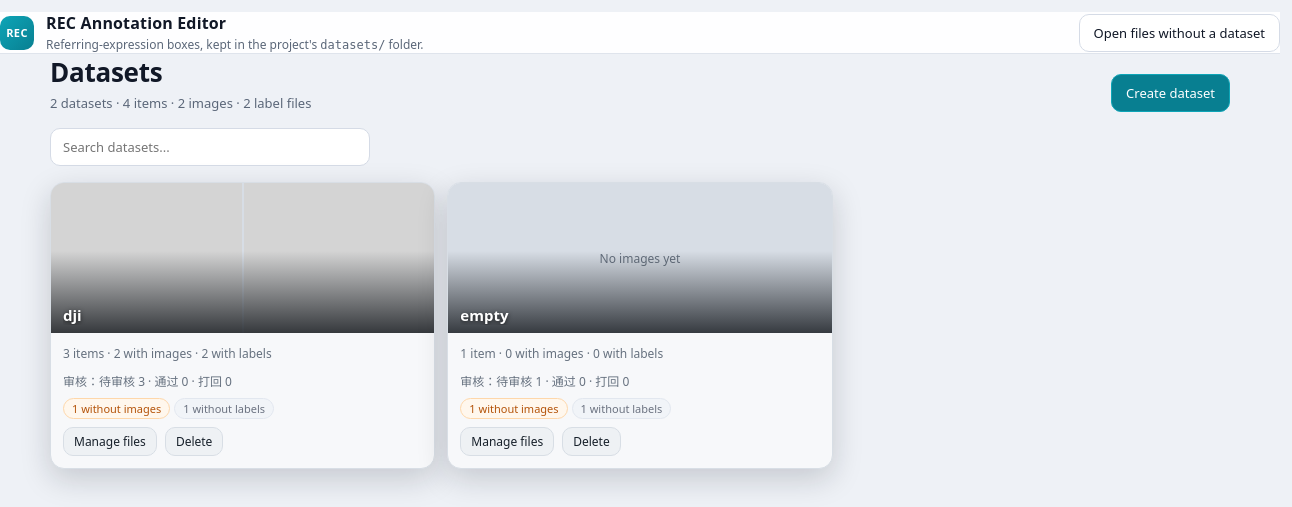
Test: filters datasets by name and sums up the import
Expected: the list item with test id "dataset-card-dji" is shown, [50,182,435,469]
Expected: the text "2 datasets · 4 items · 2 images · 2 label files" is shown, [50,94,311,112]
In the search field labelled "Search datasets": [210, 147] box [50,128,370,166], type "emp"
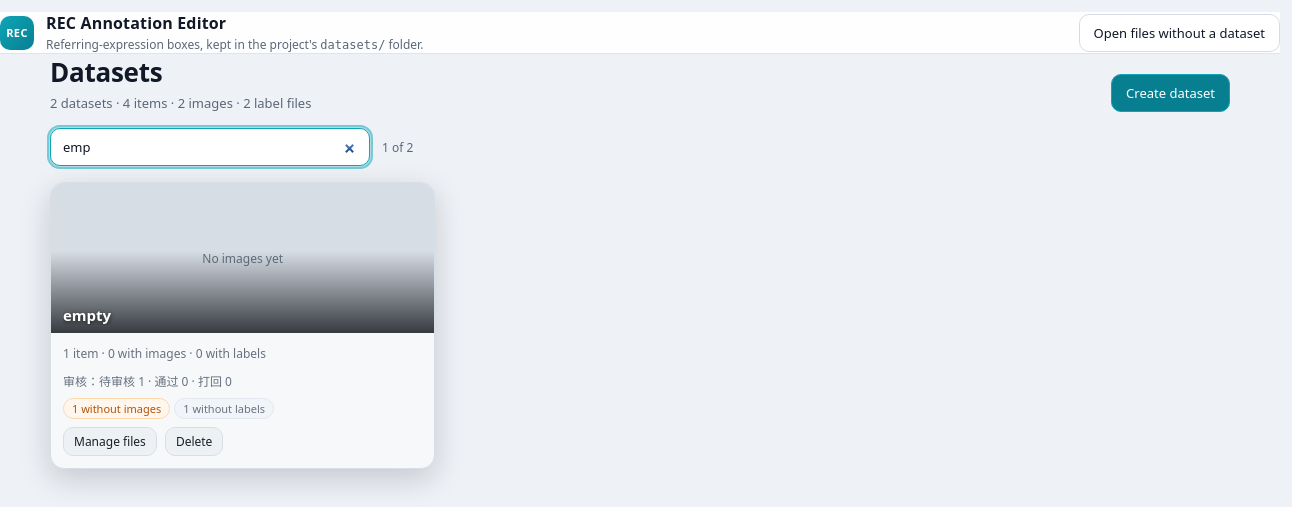
Expected: the list item with test id "dataset-card-empty" is shown, [50,182,435,469]
Now the list item with test id "dataset-card-dji" is gone
Now the text "1 of 2" is shown, box [382,138,413,156]
